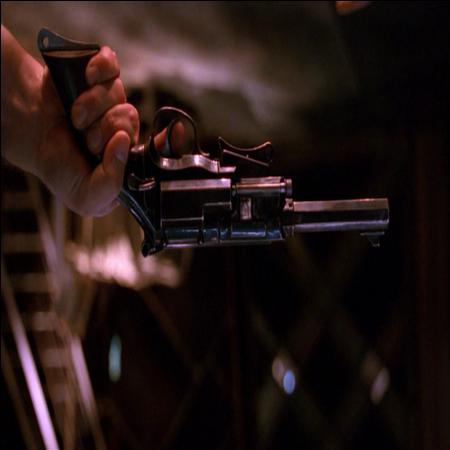Pistol: (39, 33, 408, 290)
